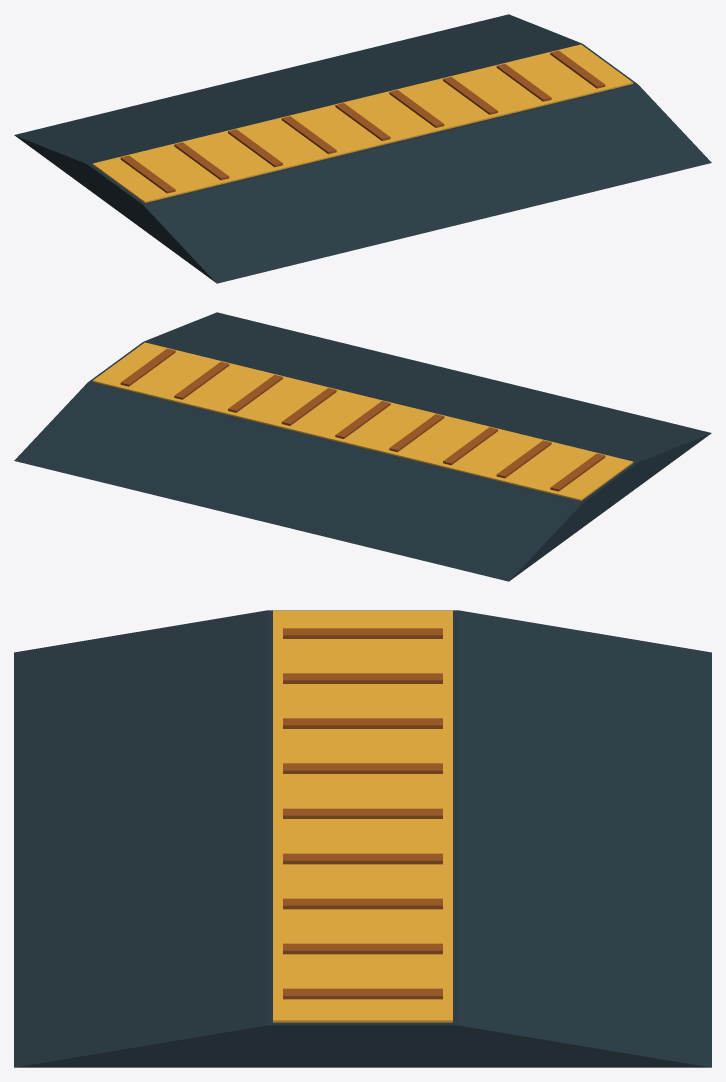
The model's file is scendance-plan-ada-low-profile-cable-matting.glb.
The picture shows the model from 3 angles, top to bottom: view 1: azimuth 30°, elevation 25°; view 2: azimuth 150°, elevation 25°; view 3: azimuth 270°, elevation 25°; orthographic projection. The views are drawn at different scales.
Size of the model in its own units: 0.76 by 0.041 by 0.54.
